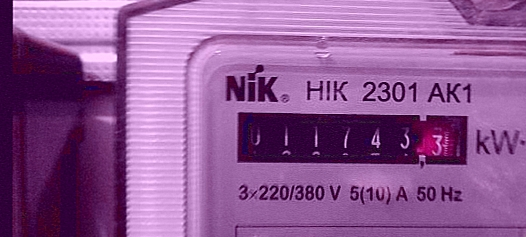0: (247, 120, 261, 148)
1: (308, 120, 320, 148), (279, 120, 289, 147)
3: (397, 123, 411, 150), (428, 133, 442, 158)
4: (367, 123, 381, 150)
7: (337, 120, 352, 148)
screen: (225, 101, 478, 176)
